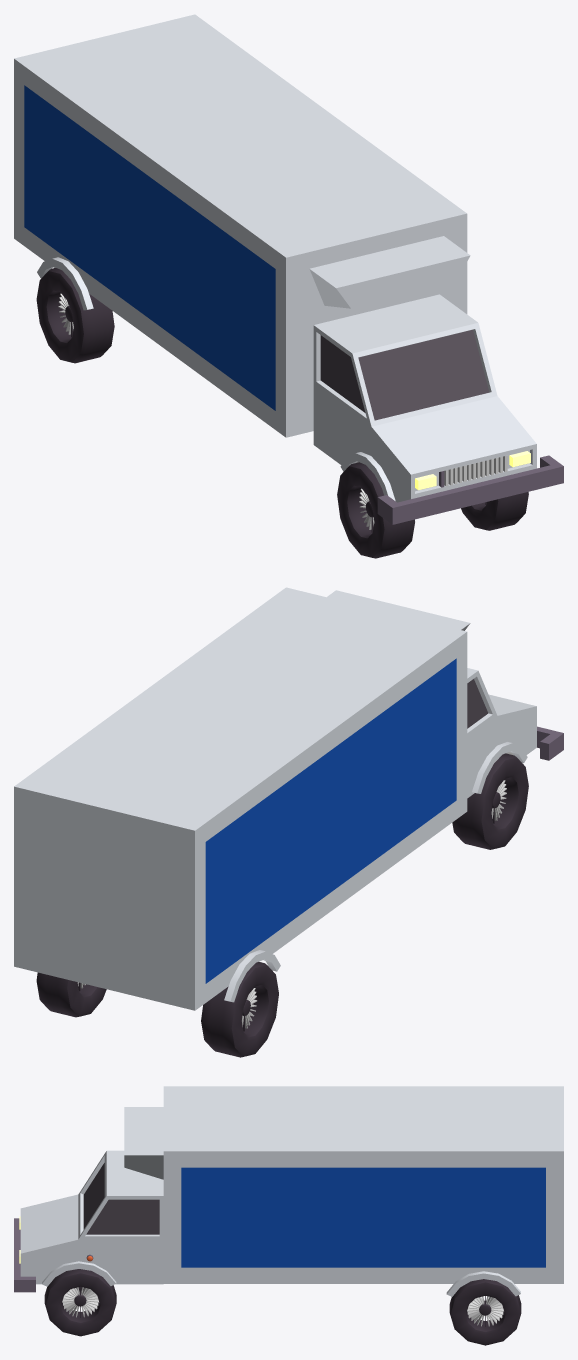
File: TRUK2.fbx
3 renders of one model, top to bottom at view 1: azimuth 30°, elevation 25°; view 2: azimuth 150°, elevation 25°; view 3: azimuth 270°, elevation 25°, orthographic. The views are drawn at different scales.
Parts seen in each view (by area): view 1: truk, WHEEL_2, WHEEL, Tubes_wheel, Tubes_wheel_2; view 2: truk, WHEEL, WHEEL_2, Tubes_wheel, Tubes_wheel_2; view 3: truk, WHEEL_2, WHEEL, Tubes_wheel, Tubes_wheel_2.
Part boxes in pixels (left/top/right/bottom): truk: left=14, top=14, right=563, bottom=524; WHEEL_2: left=337, top=462, right=528, bottom=558; WHEEL: left=36, top=267, right=114, bottom=363; Tubes_wheel: left=37, top=257, right=93, bottom=310; Tubes_wheel_2: left=340, top=452, right=395, bottom=500; truk: left=14, top=587, right=563, bottom=1010; WHEEL: left=36, top=962, right=278, bottom=1057; WHEEL_2: left=452, top=753, right=528, bottom=849; Tubes_wheel: left=224, top=950, right=280, bottom=1002; Tubes_wheel_2: left=472, top=742, right=527, bottom=793; truk: left=14, top=1086, right=563, bottom=1292; WHEEL_2: left=44, top=1269, right=116, bottom=1336; WHEEL: left=449, top=1279, right=521, bottom=1345; Tubes_wheel: left=446, top=1271, right=520, bottom=1296; Tubes_wheel_2: left=42, top=1261, right=116, bottom=1286.
Size of the model in its own units: 218 by 276 by 715.
